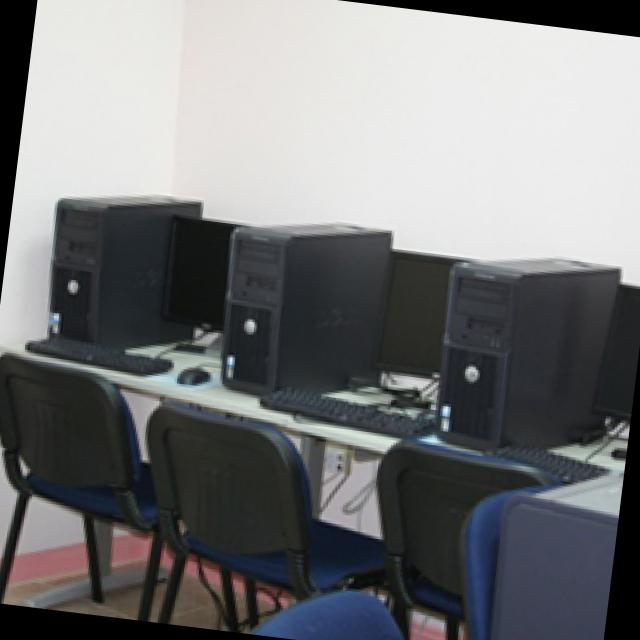CPU occluded: (433, 252, 616, 447), (214, 216, 389, 394), (47, 188, 197, 343)
chair part: (140, 395, 384, 626), (0, 349, 158, 618), (374, 438, 550, 640), (452, 489, 516, 640), (254, 589, 402, 640)
desk organizer: (16, 316, 623, 487)
floor -X: (0, 550, 509, 640)
keyboard crop: (260, 384, 432, 436), (22, 332, 169, 373), (478, 440, 604, 478)
monitor ocluded: (380, 246, 459, 373), (159, 216, 246, 328), (591, 281, 639, 415)
wall clock: (143, 0, 640, 640), (0, 0, 179, 584)
